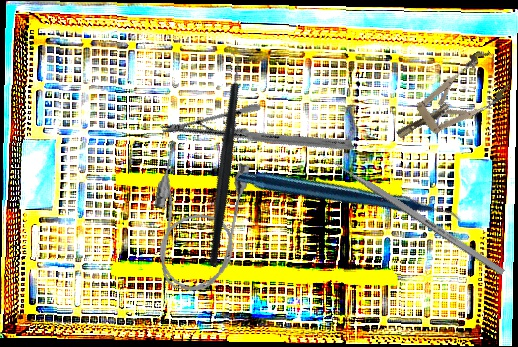Cannula: (140, 140, 253, 298)
Chopper: (135, 44, 309, 269)
Handpiece: (234, 85, 464, 315)
Needle Holder: (159, 56, 355, 218)
Pusher: (317, 150, 506, 276)
Speculum: (383, 46, 515, 157)
